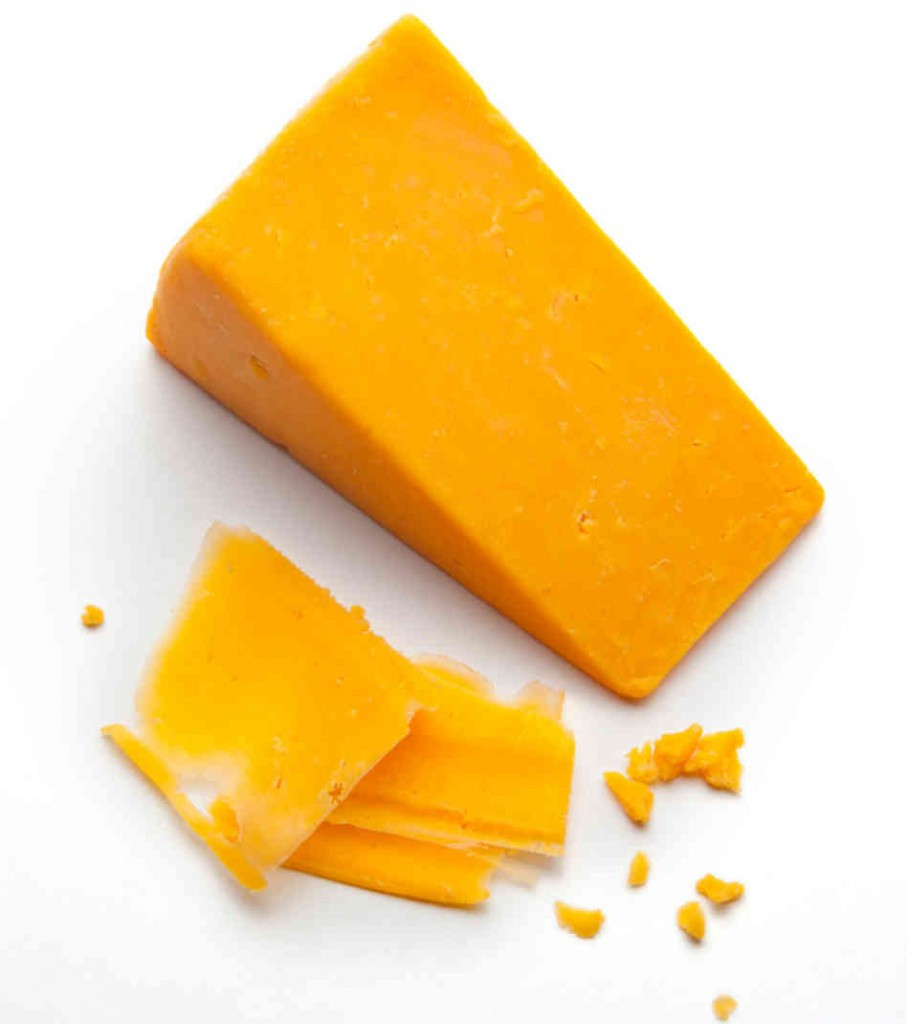cheese: (153, 38, 811, 663), (84, 554, 569, 923), (536, 709, 799, 1001)
